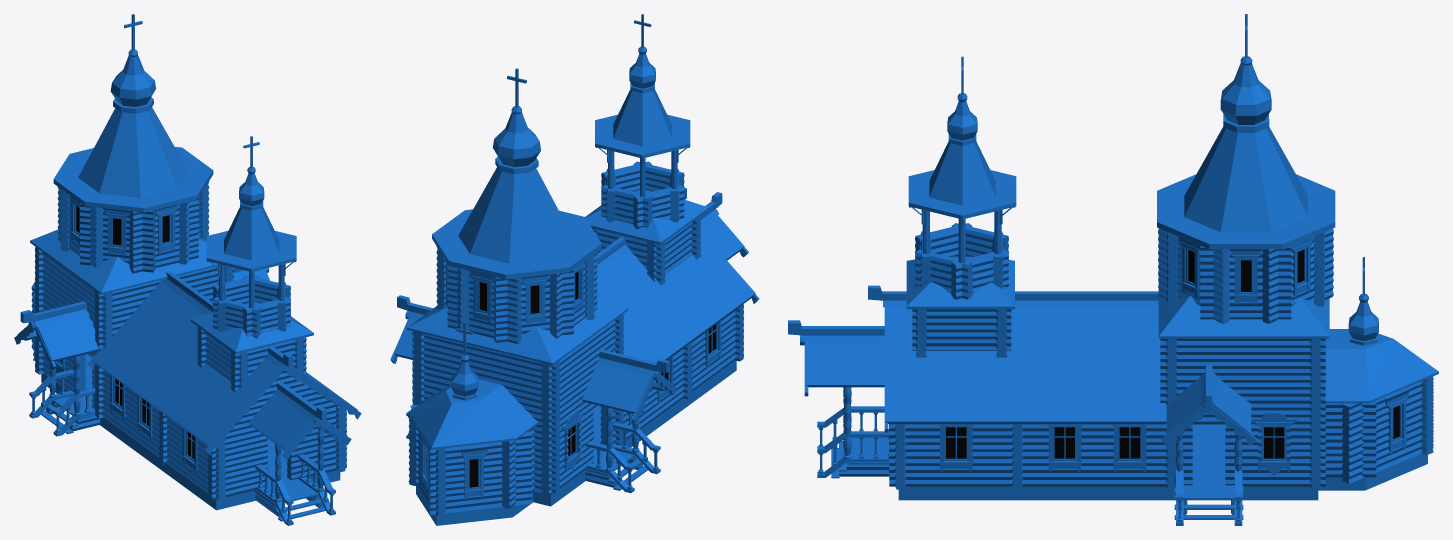
The model's file is SM_church.fbx.
3 renders of one model, left to right at view 1: azimuth 30°, elevation 25°; view 2: azimuth 150°, elevation 25°; view 3: azimuth 270°, elevation 25°, orthographic. The views are drawn at different scales.
Visible parts, largest first — view 1: Cube_9; view 2: Cube_9; view 3: Cube_9.
Boxes of the visible parts, <box> form: Cube_9: <box>14,14,361,525</box>; Cube_9: <box>390,14,759,525</box>; Cube_9: <box>788,14,1438,525</box>.
Size of the model in its own units: 974 by 1374 by 1803.
